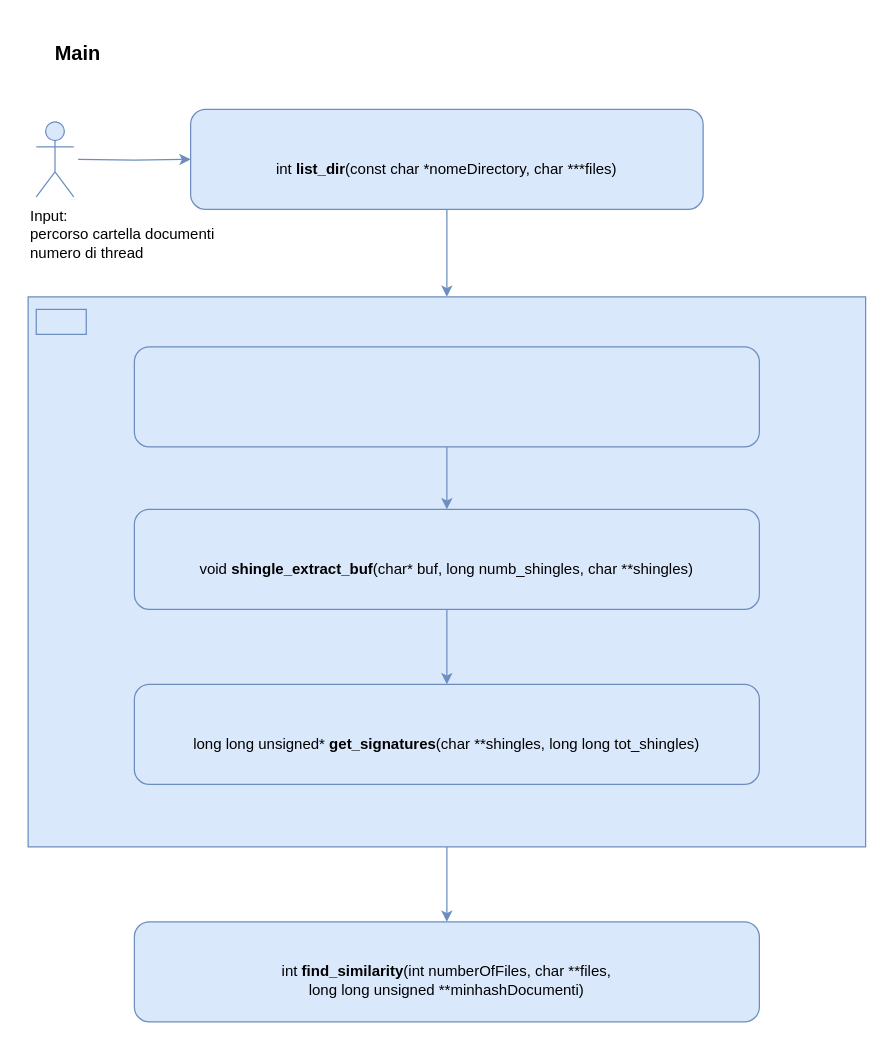
Image size: 888x1044. Some labels were removed from this diagram. The box of each missing label's shape, as (x1, y1, x2, y2) in pixels:
char* get_file_string_cleaned (const char* file_path,long* fileLength): (133, 346, 759, 447)
loop: (35, 308, 86, 334)
